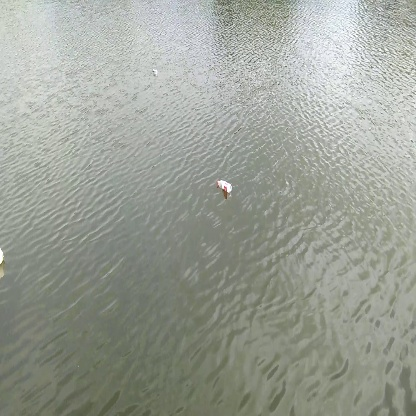bottle: (215, 175, 237, 196)
